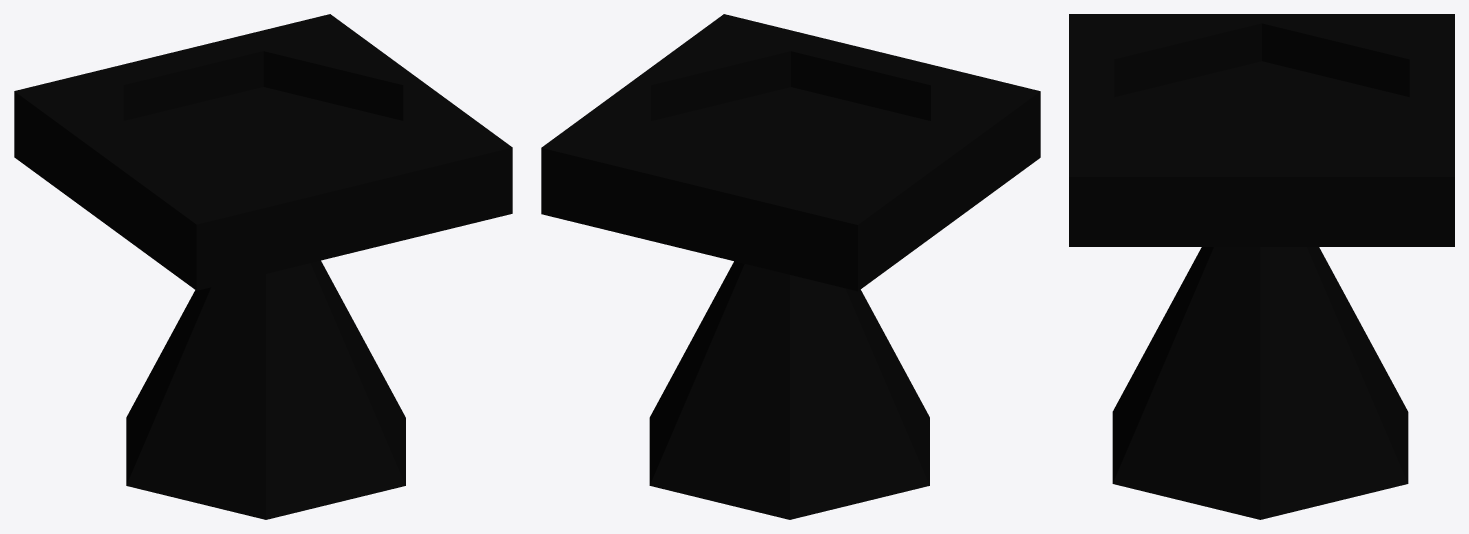
The model's file is Spike.fbx.
3 views of the same model, side by side, from view 1: azimuth 30°, elevation 25°; view 2: azimuth 150°, elevation 25°; view 3: azimuth 270°, elevation 25° (orthographic). The views are drawn at different scales.
Parts seen in each view (by area): view 1: pPlane2, pCone1; view 2: pPlane2, pCone1; view 3: pPlane2, pCone1.
Boxes of the visible parts, bbox=[...] form: pPlane2: bbox=[14, 14, 512, 290]; pCone1: bbox=[126, 260, 405, 519]; pPlane2: bbox=[541, 14, 1040, 291]; pCone1: bbox=[649, 261, 929, 519]; pPlane2: bbox=[1069, 14, 1454, 246]; pCone1: bbox=[1112, 247, 1408, 519].
Bounding box in the file's own units: 0.25 × 0.2512 × 0.25.
